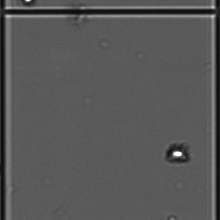Living Cell: (165, 138, 189, 169)
